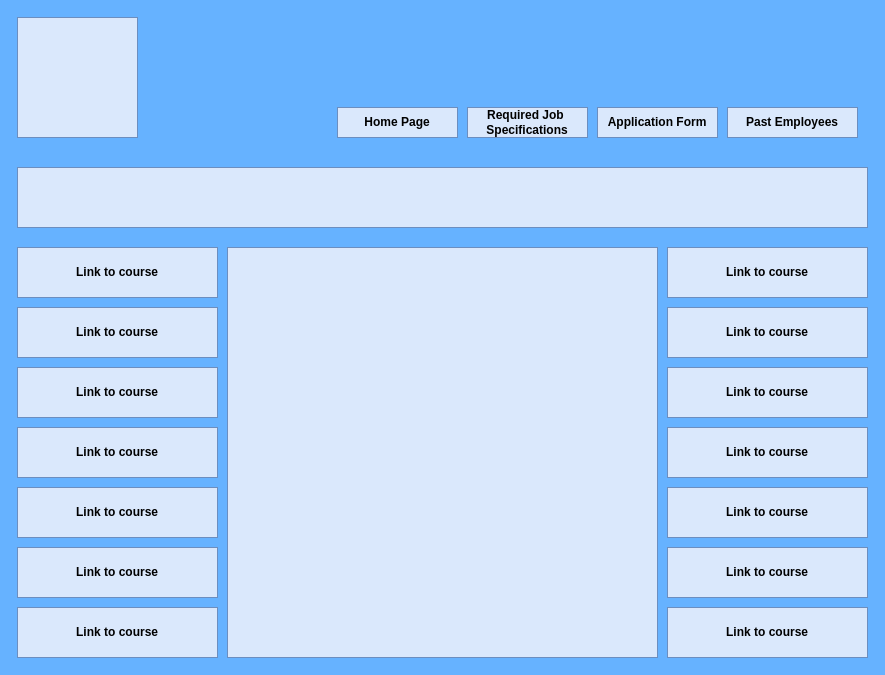
This 885x675 diagram has some shape labels left out. Each missing label, with the box of its shape:
Image: (226, 246, 658, 658)
Logo: (16, 16, 138, 138)
Web development Courses: (16, 166, 868, 228)
